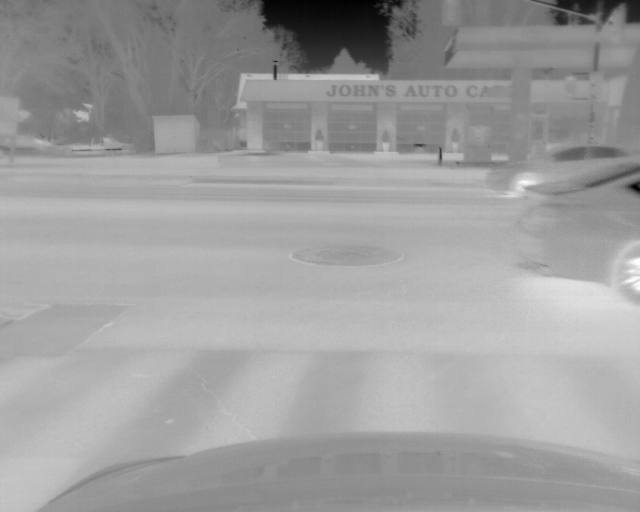car: (516, 156, 640, 303), (485, 141, 639, 195)
